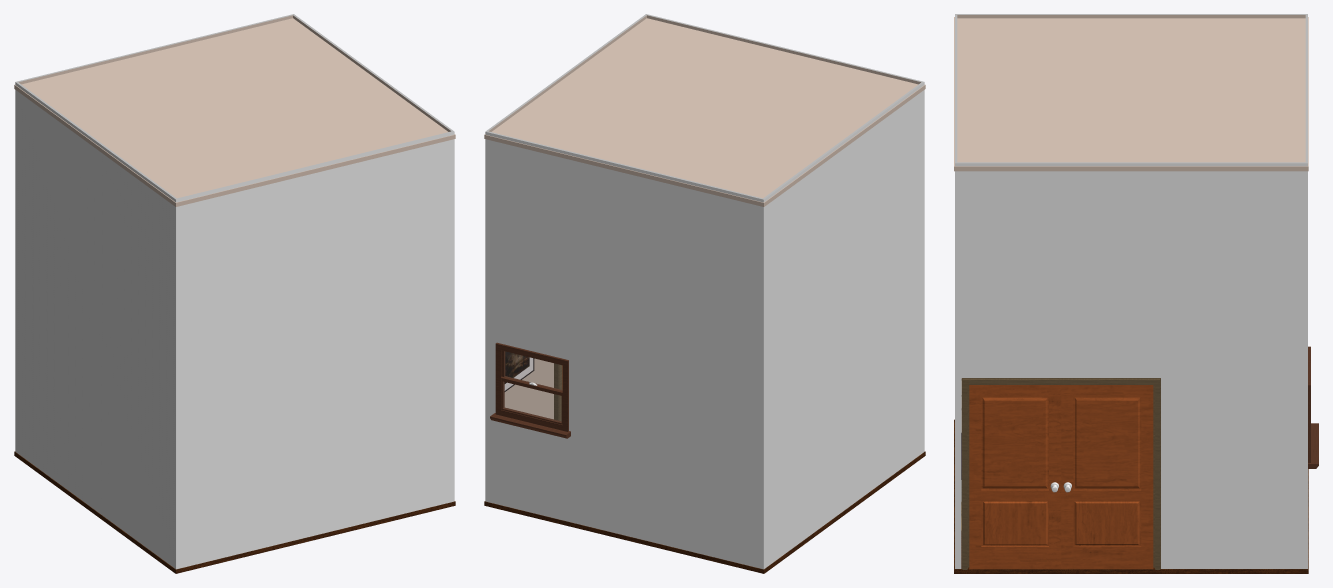
File: ProcTHOR-Train-52.glb
3 renders of one model, left to right at view 1: azimuth 30°, elevation 25°; view 2: azimuth 150°, elevation 25°; view 3: azimuth 270°, elevation 25°, orthographic. The views are drawn at different scales.
Parts seen in each view (by area): view 1: WallInside#wall|exterior|0.00|3.50|3.50|3.50, WallInside#wall|exterior|3.50|0.00|3.50|3.50, Ceiling#room|2|c, Floor#room|2|f, WallInside#wall|2|0.00|0.00|3.50|0.00, WallInside#wall|2|0.00|0.00|0.00|3.50; view 2: WallInside#wall|exterior|0.00|0.00|3.50|0.00, WallInside#wall|exterior|3.50|0.00|3.50|3.50, Ceiling#room|2|c, Window_Hung_36x32, WallInside#wall|2|0.00|0.00|0.00|3.50, Floor#room|2|f, WallInside#wall|2|0.00|3.50|3.50|3.50, Wall_Decor_Painting_7; view 3: WallInside#wall|exterior|0.00|0.00|0.00|3.50, Ceiling#room|2|c, Doorway_Door_4a, Doorway_Door_4b, Doorway_Double_4, Floor#room|2|f, WallInside#wall|2|3.50|0.00|3.50|3.50, Window_Hung_36x32, WallInside#wall|exterior|0.00|0.00|3.50|0.00.
Boxes of the visible parts, bbox=[...] form: WallInside#wall|exterior|0.00|3.50|3.50|3.50: bbox=[176, 131, 454, 569]; WallInside#wall|exterior|3.50|0.00|3.50|3.50: bbox=[15, 82, 176, 568]; Ceiling#room|2|c: bbox=[14, 18, 455, 206]; Floor#room|2|f: bbox=[14, 451, 455, 573]; WallInside#wall|2|0.00|0.00|3.50|0.00: bbox=[16, 14, 294, 84]; WallInside#wall|2|0.00|0.00|0.00|3.50: bbox=[292, 14, 453, 131]; WallInside#wall|exterior|0.00|0.00|3.50|0.00: bbox=[485, 131, 763, 569]; WallInside#wall|exterior|3.50|0.00|3.50|3.50: bbox=[763, 82, 924, 568]; Ceiling#room|2|c: bbox=[484, 18, 925, 206]; Window_Hung_36x32: bbox=[490, 342, 570, 438]; WallInside#wall|2|0.00|0.00|0.00|3.50: bbox=[487, 14, 647, 419]; Floor#room|2|f: bbox=[484, 451, 925, 573]; WallInside#wall|2|0.00|3.50|3.50|3.50: bbox=[645, 14, 923, 84]; Wall_Decor_Painting_7: bbox=[504, 351, 534, 391]; WallInside#wall|exterior|0.00|0.00|0.00|3.50: bbox=[955, 162, 1307, 568]; Ceiling#room|2|c: bbox=[954, 17, 1308, 171]; Doorway_Door_4a: bbox=[1061, 385, 1153, 569]; Doorway_Door_4b: bbox=[969, 385, 1061, 569]; Doorway_Double_4: bbox=[961, 378, 1160, 569]; Floor#room|2|f: bbox=[954, 419, 1308, 573]; WallInside#wall|2|3.50|0.00|3.50|3.50: bbox=[955, 14, 1307, 18]; Window_Hung_36x32: bbox=[1308, 346, 1318, 468]; WallInside#wall|exterior|0.00|0.00|3.50|0.00: bbox=[1306, 14, 1307, 568].
Bounding box in the file's own units: 3.62 × 4.52 × 3.64.
Materials: 73 (33 with a texture image).
